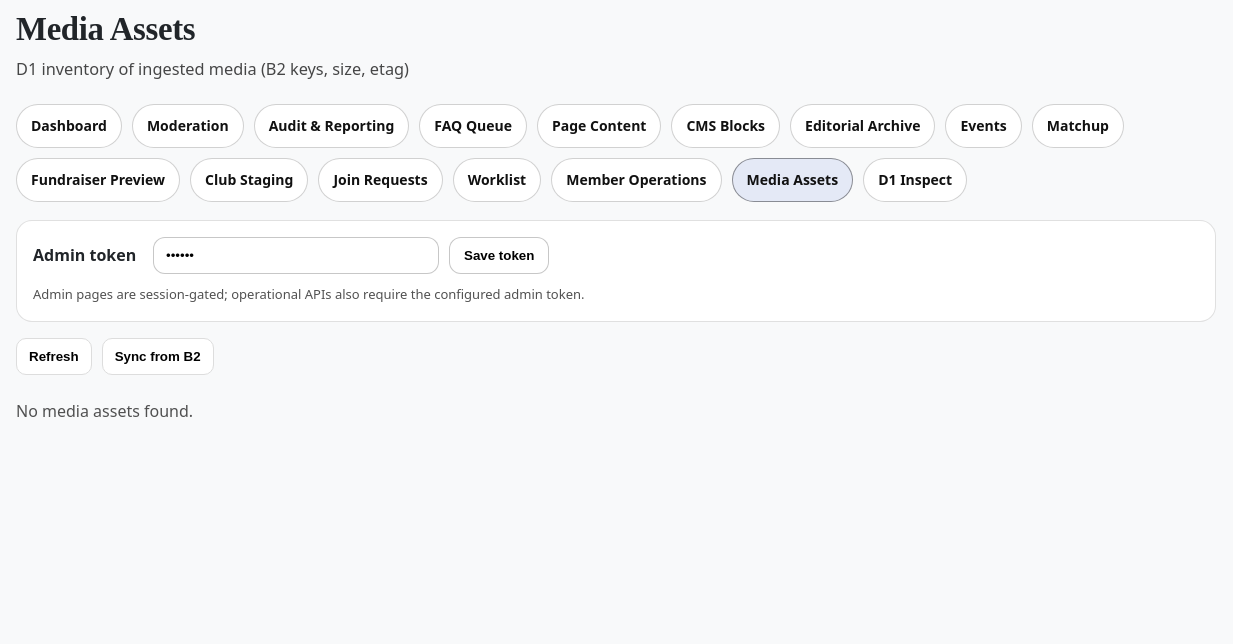
Test case: admin media assets page › posts B2 sync, reports changes, and refreshes inventory
Expected: the text "No media assets found." is shown, 16,400 -> 193,422
Click the button "Sync from B2".
click(158, 357)  # box 102,338 -> 214,375
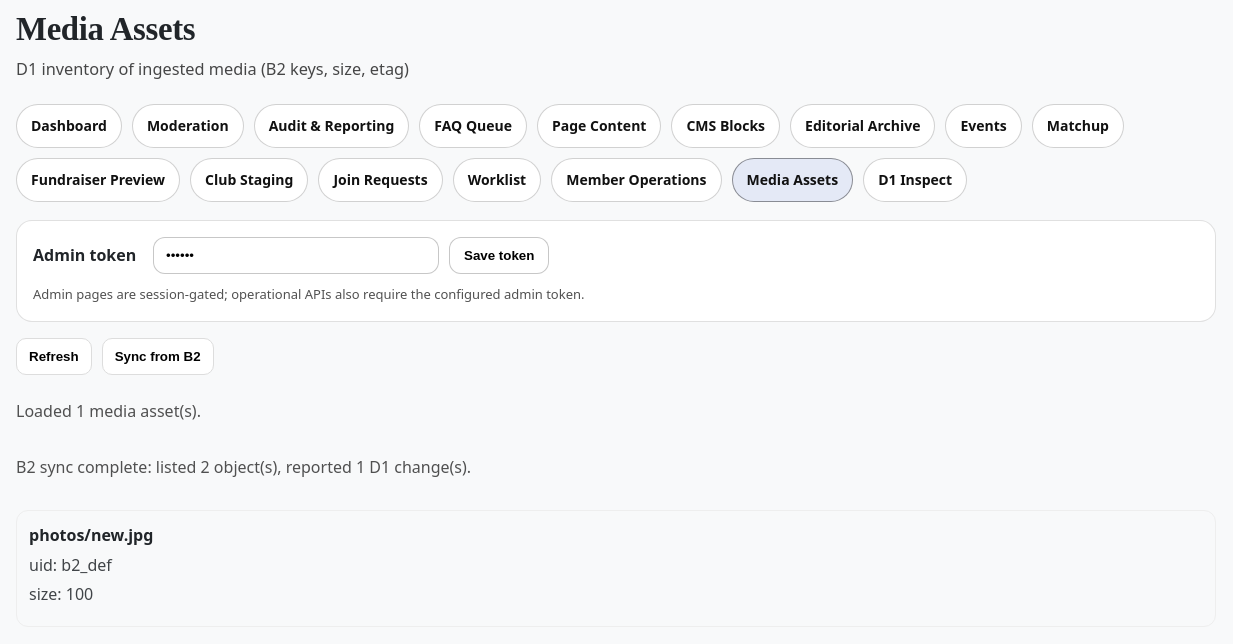
Now the text "B2 sync complete: listed 2 object(s), reported 1 D1 change(s)." is shown, box 16,456 -> 471,478
Now the text "photos/new.jpg" is shown, box 29,524 -> 153,546
